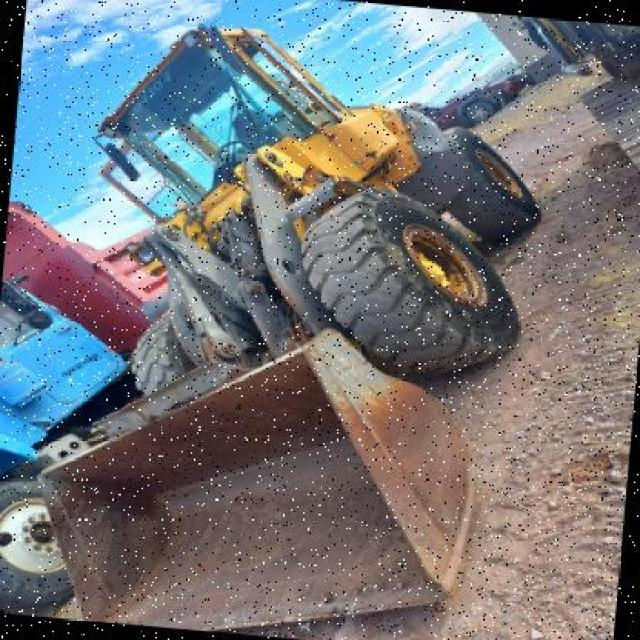buldozerpayloadergrader: (36, 0, 546, 640)
